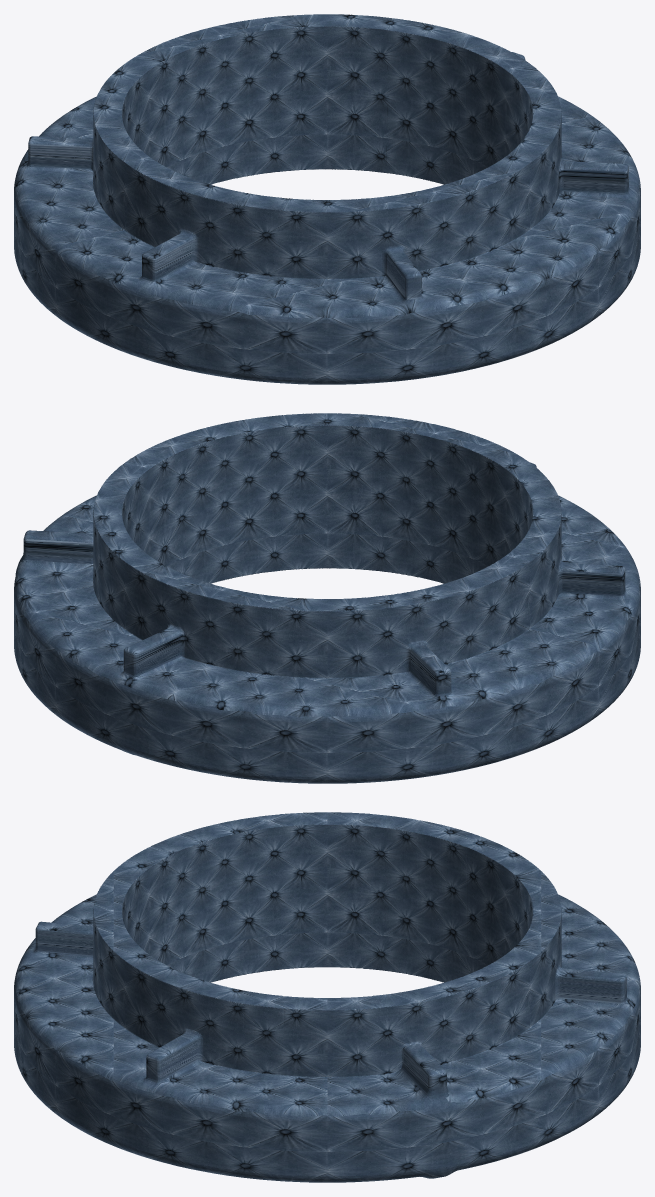
The model's file is couch.glb.
3 renders of one model, top to bottom at view 1: azimuth 30°, elevation 25°; view 2: azimuth 150°, elevation 25°; view 3: azimuth 270°, elevation 25°, orthographic.
Parts seen in each view (by area): view 1: 234504_23_04_05_02_58_50_1; view 2: 234504_23_04_05_02_58_50_1; view 3: 234504_23_04_05_02_58_50_1.
Part boxes in pixels (<box>): 234504_23_04_05_02_58_50_1: <box>14,14,640,384</box>; 234504_23_04_05_02_58_50_1: <box>14,413,640,783</box>; 234504_23_04_05_02_58_50_1: <box>14,812,640,1182</box>.
Size of the model in its own units: 2.2 by 0.5698 by 2.2.
1 material, 1 textured.
